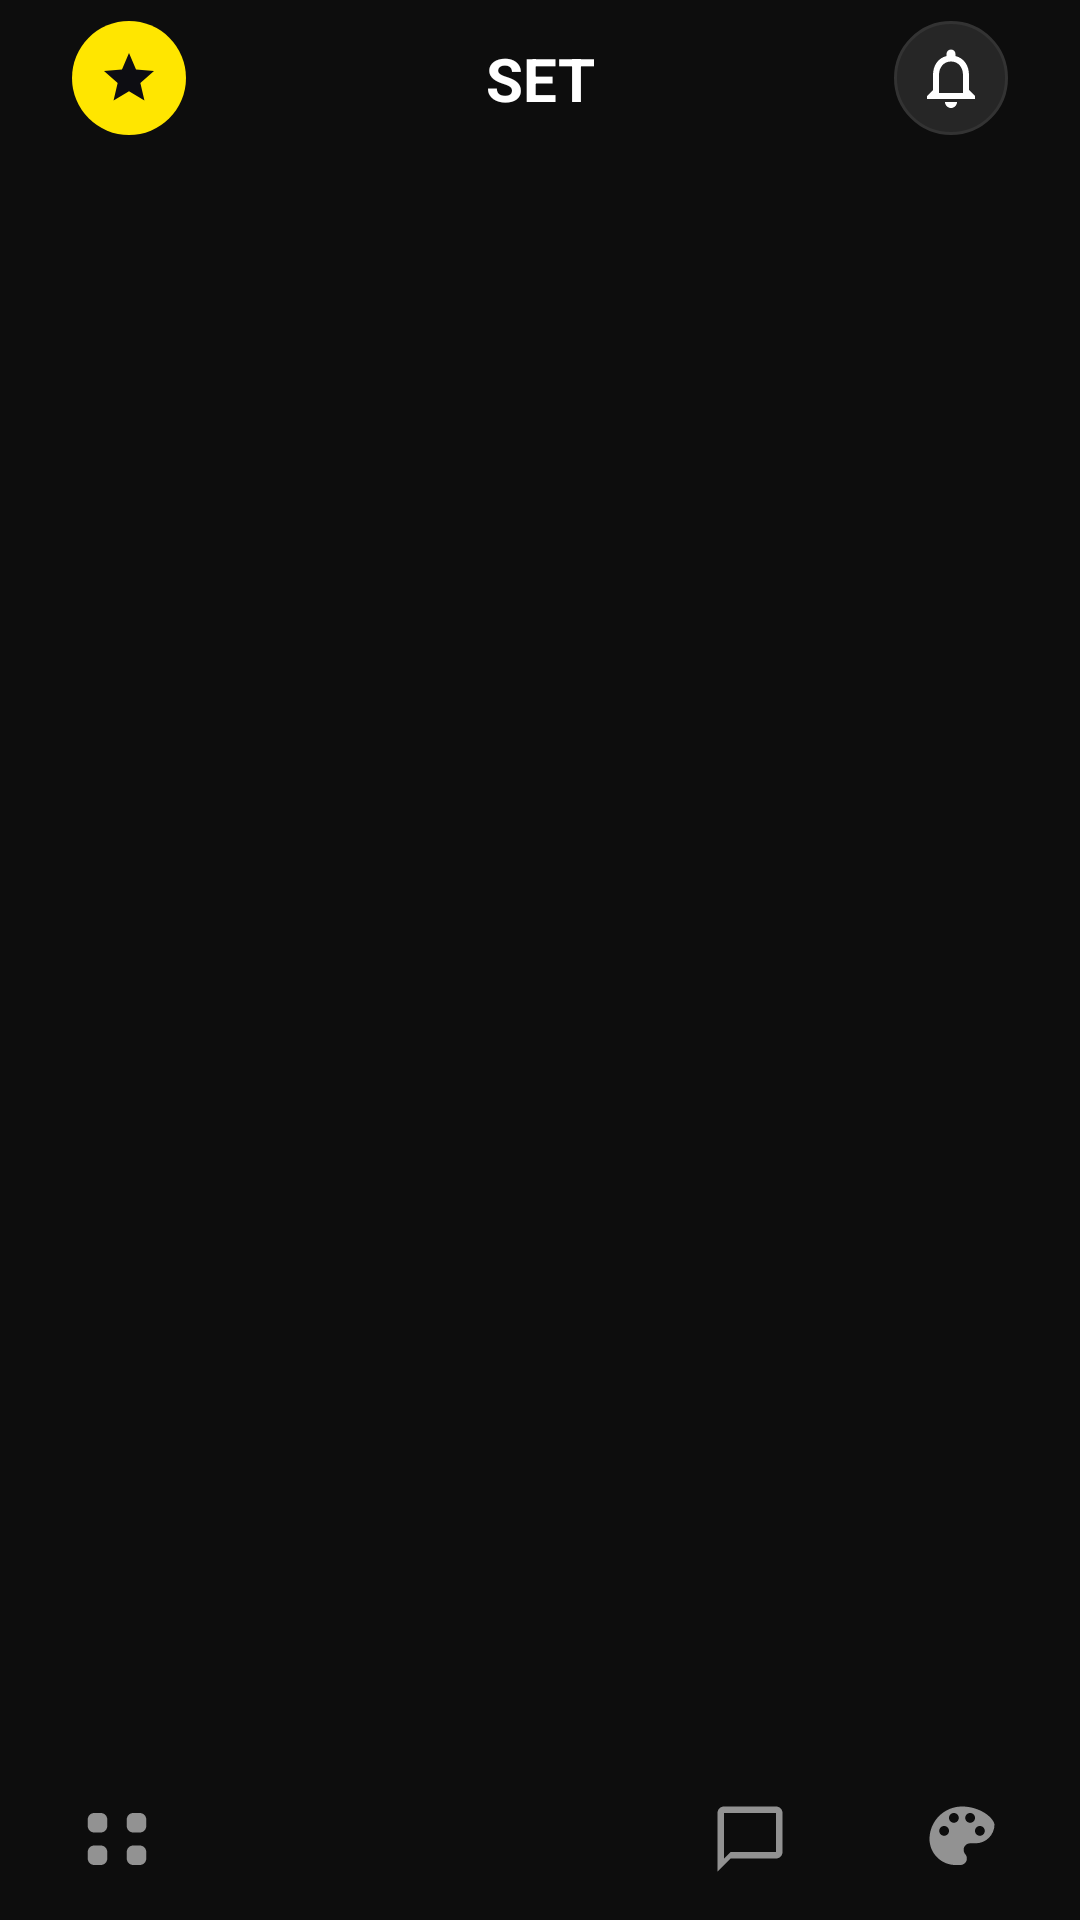

Icon bounding boxes for this 1080w x 1920h phone screenshot, format (x1,y1,x2,y2):
Lưới ảnh chi tiêu: (87,1813,147,1865)
Thông báo: (894,21,1008,135)
Trợ lý AI: (717,1806,783,1872)
Đổi màu chủ đạo: (929,1806,995,1865)
